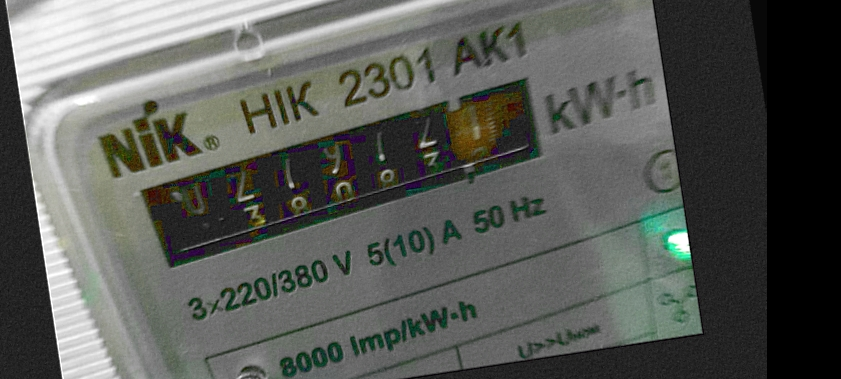0: (177, 178, 210, 217)
1: (462, 98, 490, 144)
2: (224, 161, 259, 204), (409, 109, 442, 150)
7: (363, 122, 395, 166), (273, 152, 302, 192)
9: (319, 137, 350, 176)
screen: (115, 62, 585, 282)
